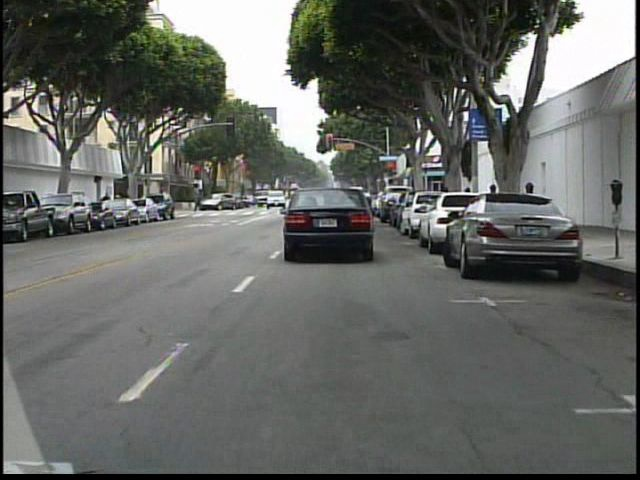person: (100, 189, 116, 222), (191, 189, 208, 214)
